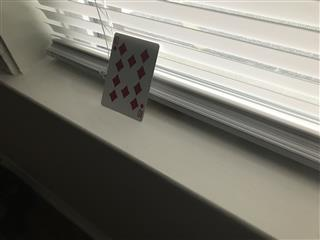TenOfDiamonds: (99, 31, 161, 122)
